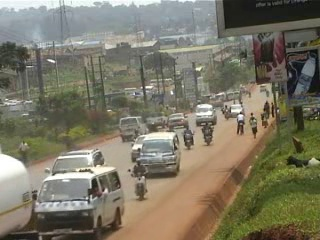Car: (128, 132, 149, 162), (194, 102, 219, 127), (165, 112, 193, 131), (226, 99, 245, 119)
Motorcycle: (126, 159, 150, 200), (201, 120, 217, 146), (181, 124, 196, 150), (129, 128, 143, 145)
